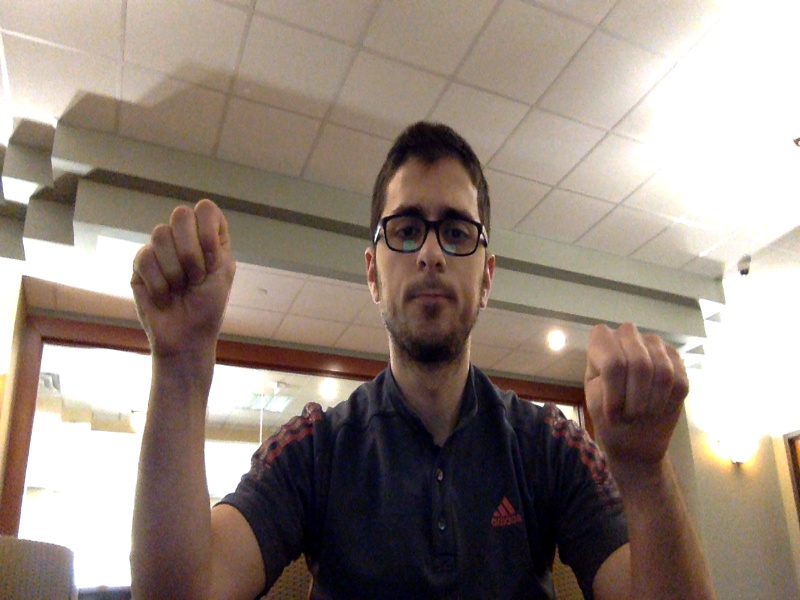0-hand: (130, 198, 236, 358), (586, 322, 689, 481)
